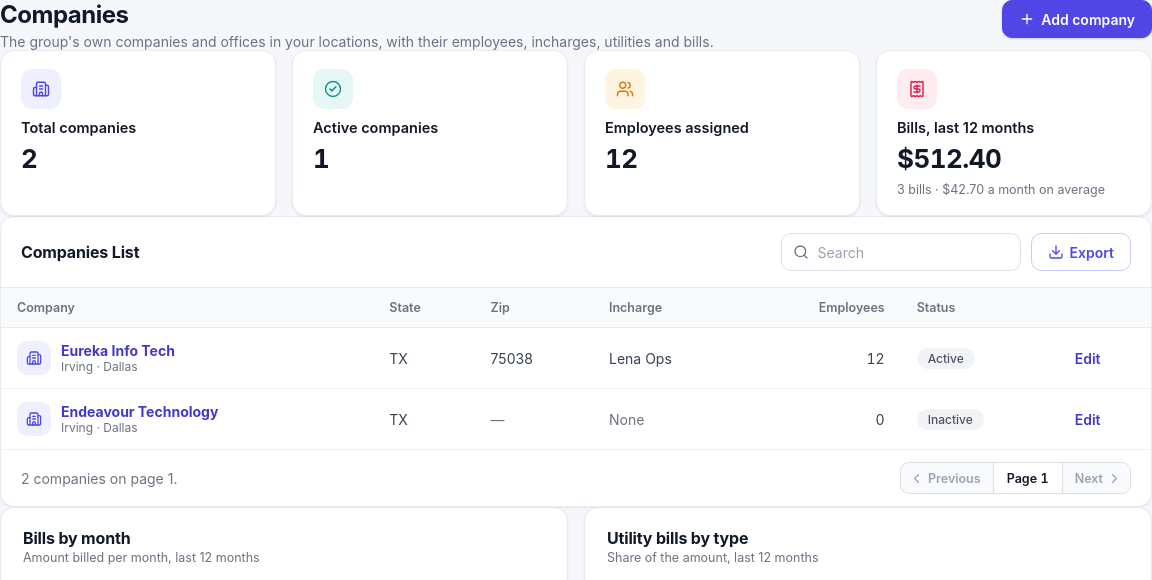
Test case: Companies list › opens the details drawer with header, address and pill tabs; employees are listed
Click the button with aria-label "Open company Eureka Info Tech" at (118, 350), box [61,342,175,359]
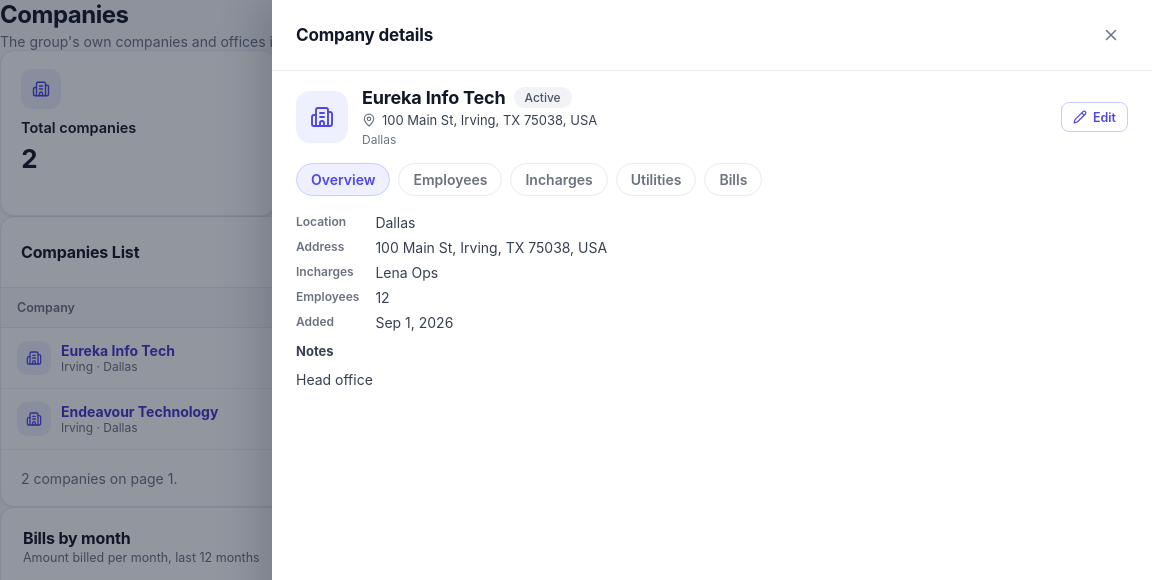
Result: the text "Eureka Info Tech" is shown at [362,87,506,108]
Result: the text "100 Main St, Irving, TX 75038, USA" is shown at [362,112,597,128]
Result: the tabs read "Overview", "Employees", "Incharges", "Utilities", "Bills", in this order
Click the tab "Employees" at (450, 180), box [398,163,502,196]
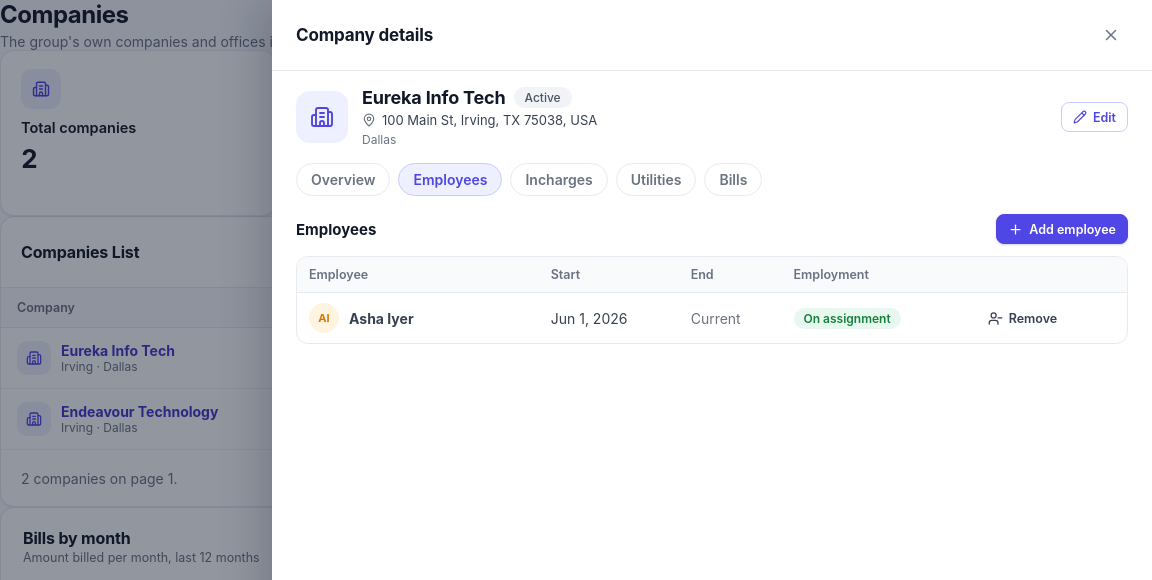
Result: the text "Asha Iyer" is shown at [349,310,414,326]
Result: the button with aria-label "Remove employee Asha Iyer" is shown at [976,303,1069,333]
